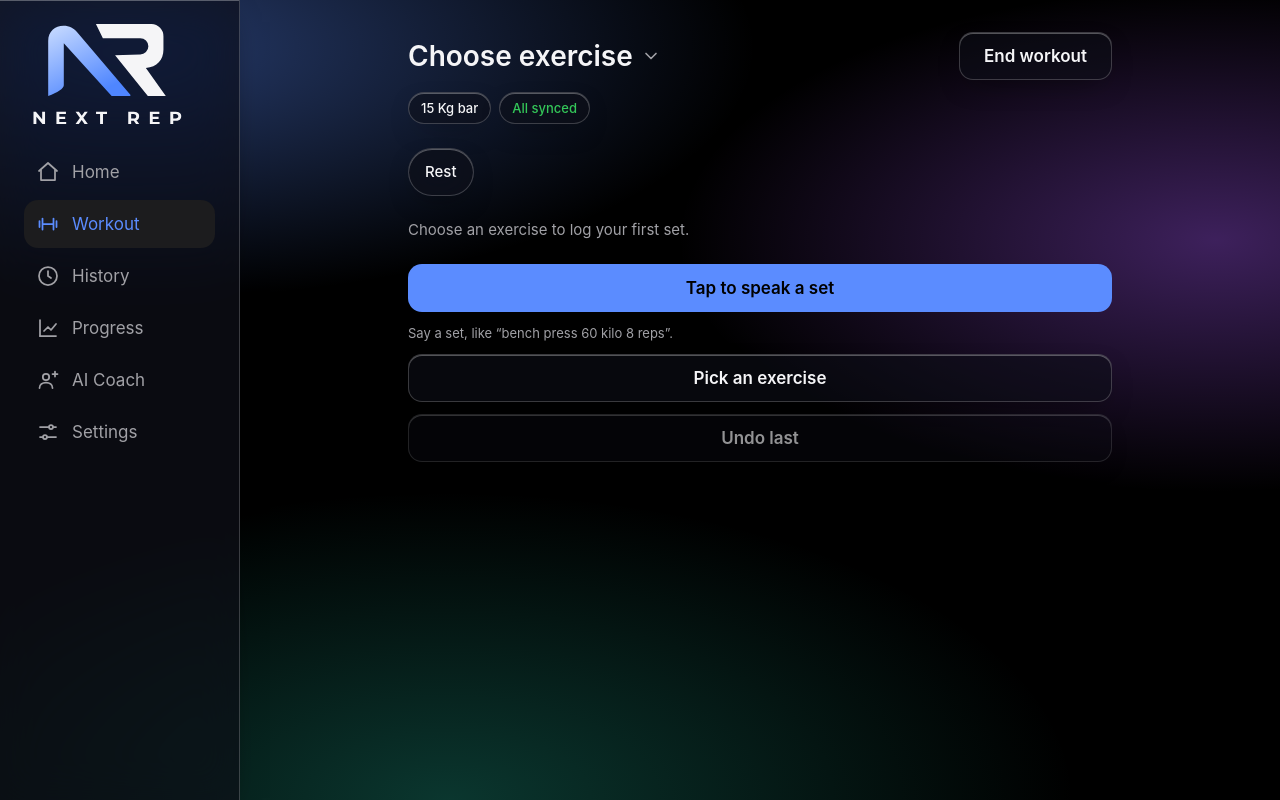
Test: saved rest preferences are read safely › nothing saved
Click the button "Rest" at (441, 172), box left=408, top=148, right=474, bottom=196
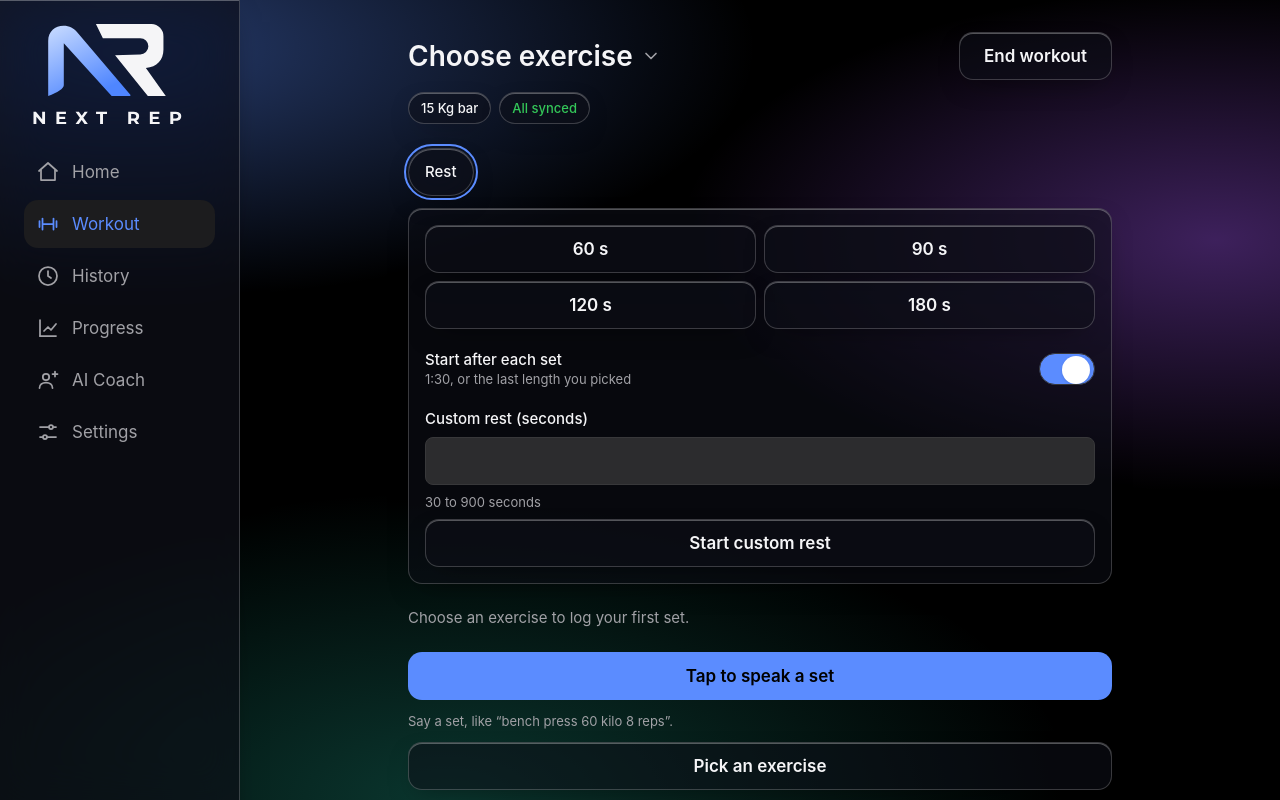
Expected: the text "1:30, or the last length you picked" is shown, left=425, top=370, right=631, bottom=388
